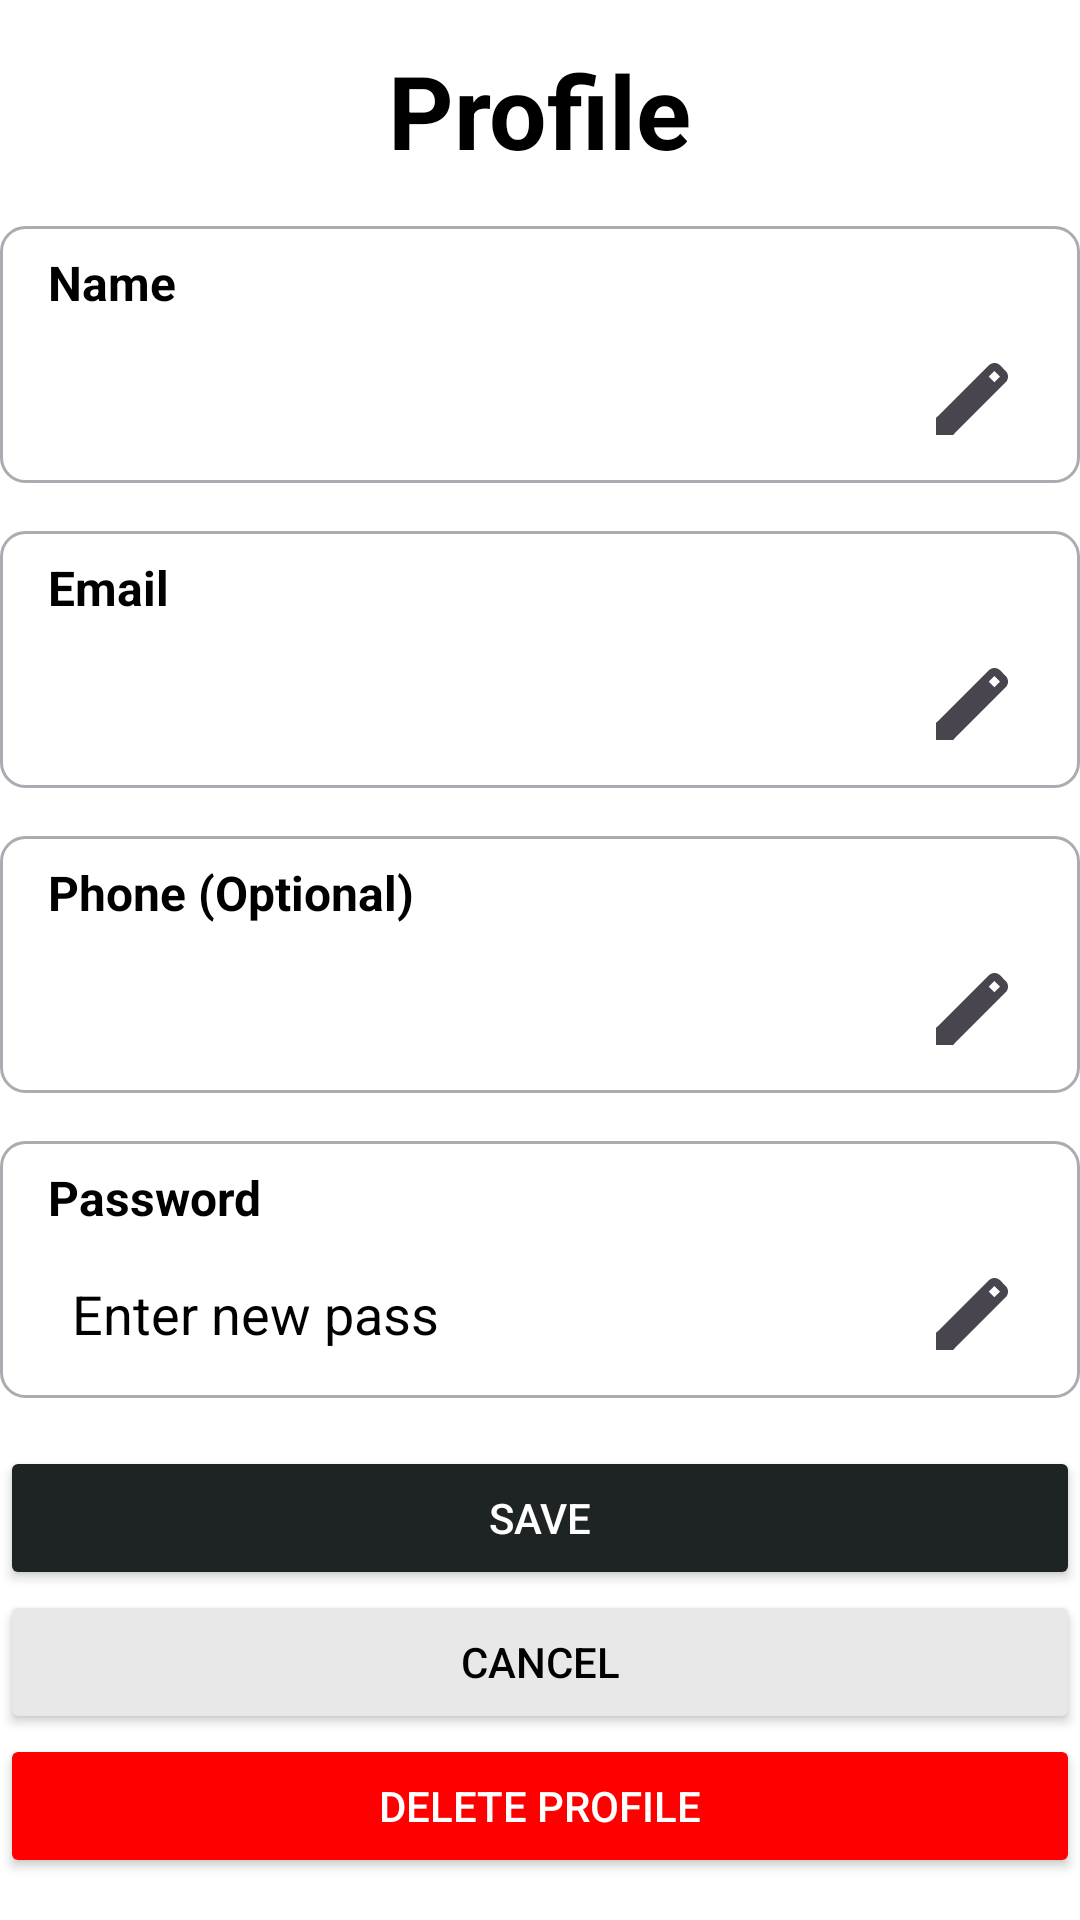

Where icons sit on this 1080 × 1920 app screen, as (x1, y1, x2, y2):
edit: (936, 363, 1008, 435), (936, 668, 1008, 740), (936, 973, 1008, 1045), (936, 1278, 1008, 1350)
